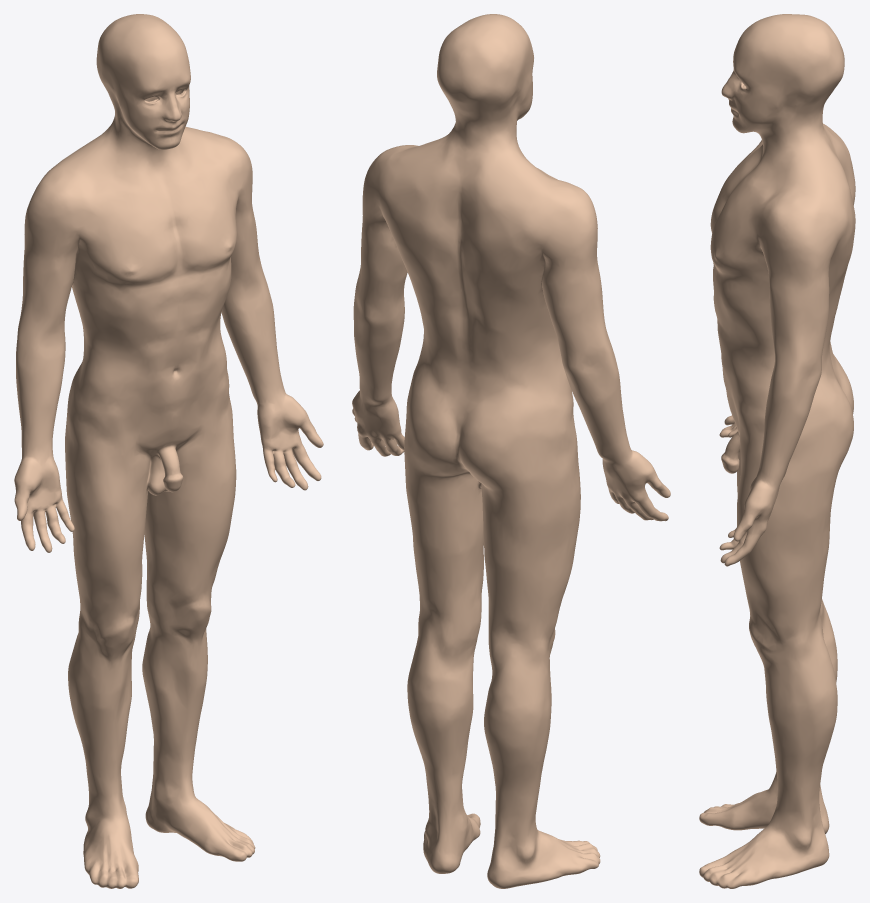
The model's file is body-skin.glb.
The picture shows the model from 3 angles, left to right: view 1: azimuth 30°, elevation 25°; view 2: azimuth 150°, elevation 25°; view 3: azimuth 270°, elevation 25°; orthographic projection. The views are drawn at different scales.
Visible parts, largest first — view 1: skin; view 2: skin; view 3: skin.
Boxes of the visible parts, x1,y1,x2,y2 form: skin: (14,14,323,888); skin: (352,14,670,888); skin: (699,14,855,888).
Size of the model in its own units: 0.6669 by 1.72 by 0.292.
